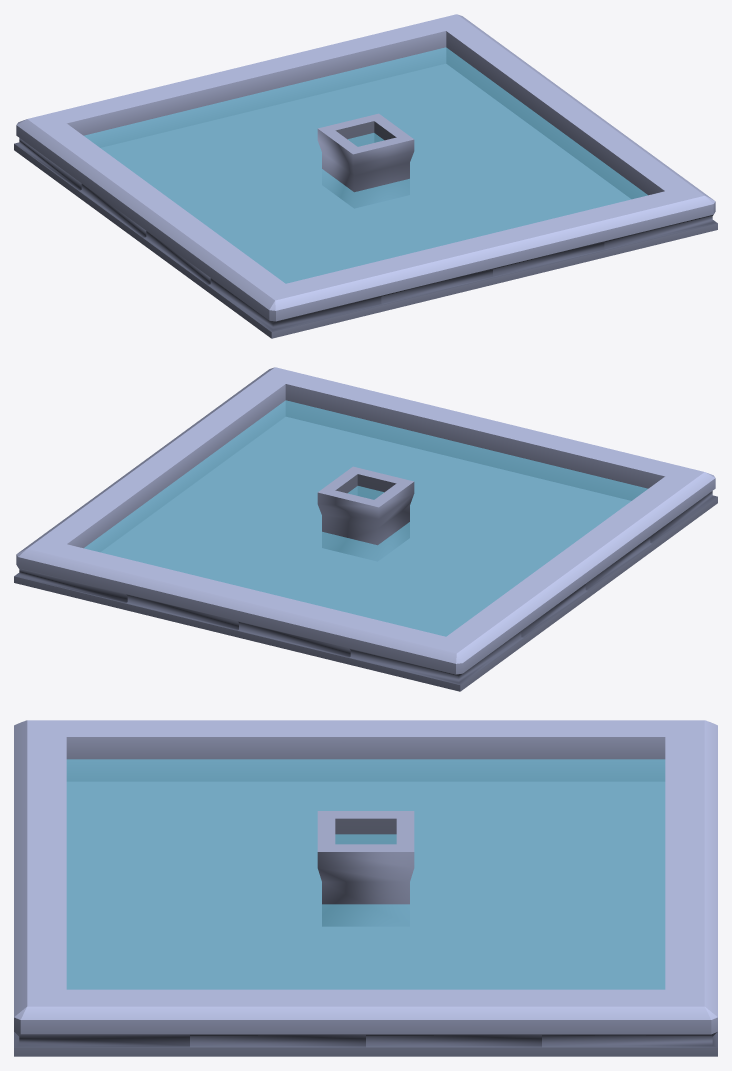
File: fountain_pool_square_large.glb
3 views of the same model, one above another, from view 1: azimuth 30°, elevation 25°; view 2: azimuth 150°, elevation 25°; view 3: azimuth 270°, elevation 25° (orthographic). The views are drawn at different scales.
Parts seen in each view (by area): view 1: fountain_pool_square_large; view 2: fountain_pool_square_large; view 3: fountain_pool_square_large.
Part boxes in pixels (x1,y1,x2,y2): fountain_pool_square_large: (14, 14, 717, 338); fountain_pool_square_large: (14, 367, 717, 691); fountain_pool_square_large: (14, 720, 717, 1056).
Bounding box in the file's own units: 4 × 0.48 × 4.
34 materials, 17 textured.
